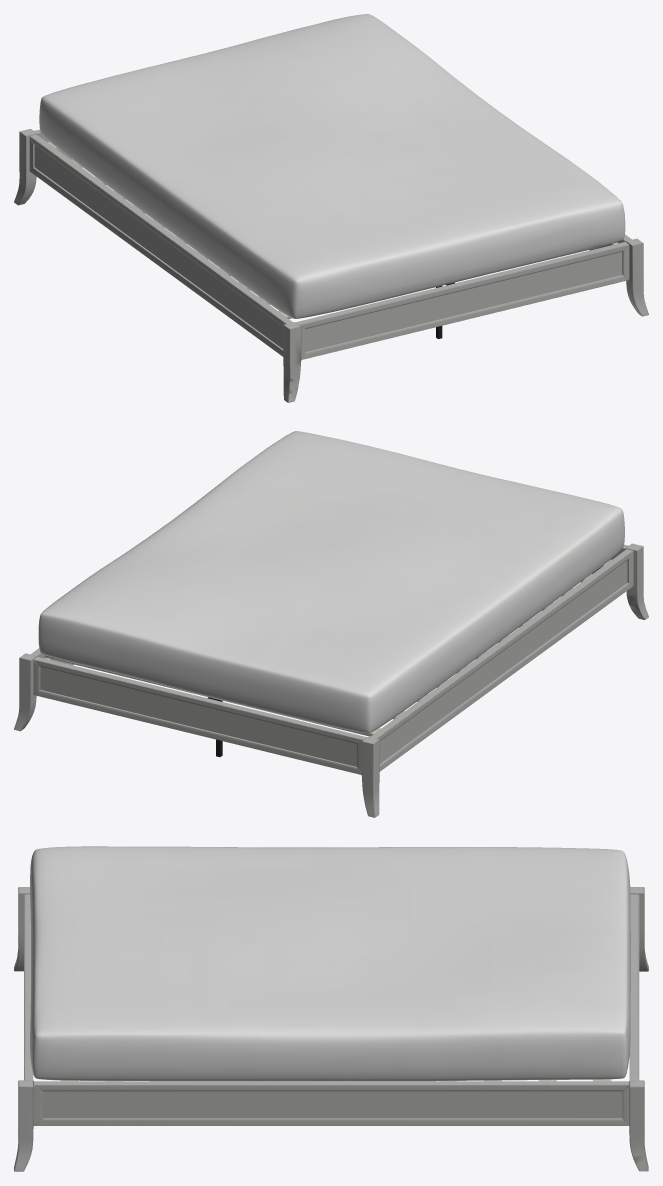
The model's file is B084ZBX1YH.glb.
3 views of the same model, one above another, from view 1: azimuth 30°, elevation 25°; view 2: azimuth 150°, elevation 25°; view 3: azimuth 270°, elevation 25° (orthographic). The views are drawn at different scales.
Parts seen in each view (by area): view 1: RootNode; view 2: RootNode; view 3: RootNode.
Boxes of the visible parts, x1,y1,x2,y2 form: RootNode: (14, 14, 648, 402); RootNode: (14, 431, 648, 817); RootNode: (14, 846, 648, 1171).
Bounding box in the file's own units: 1.6 × 0.5097 × 2.11.
1 material, 1 textured.
